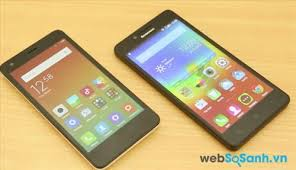lenovo: (112, 7, 291, 150)
